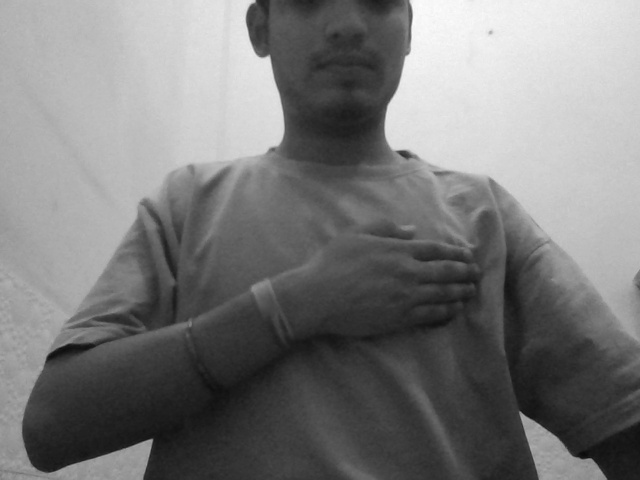Sorry: (268, 211, 490, 362)
